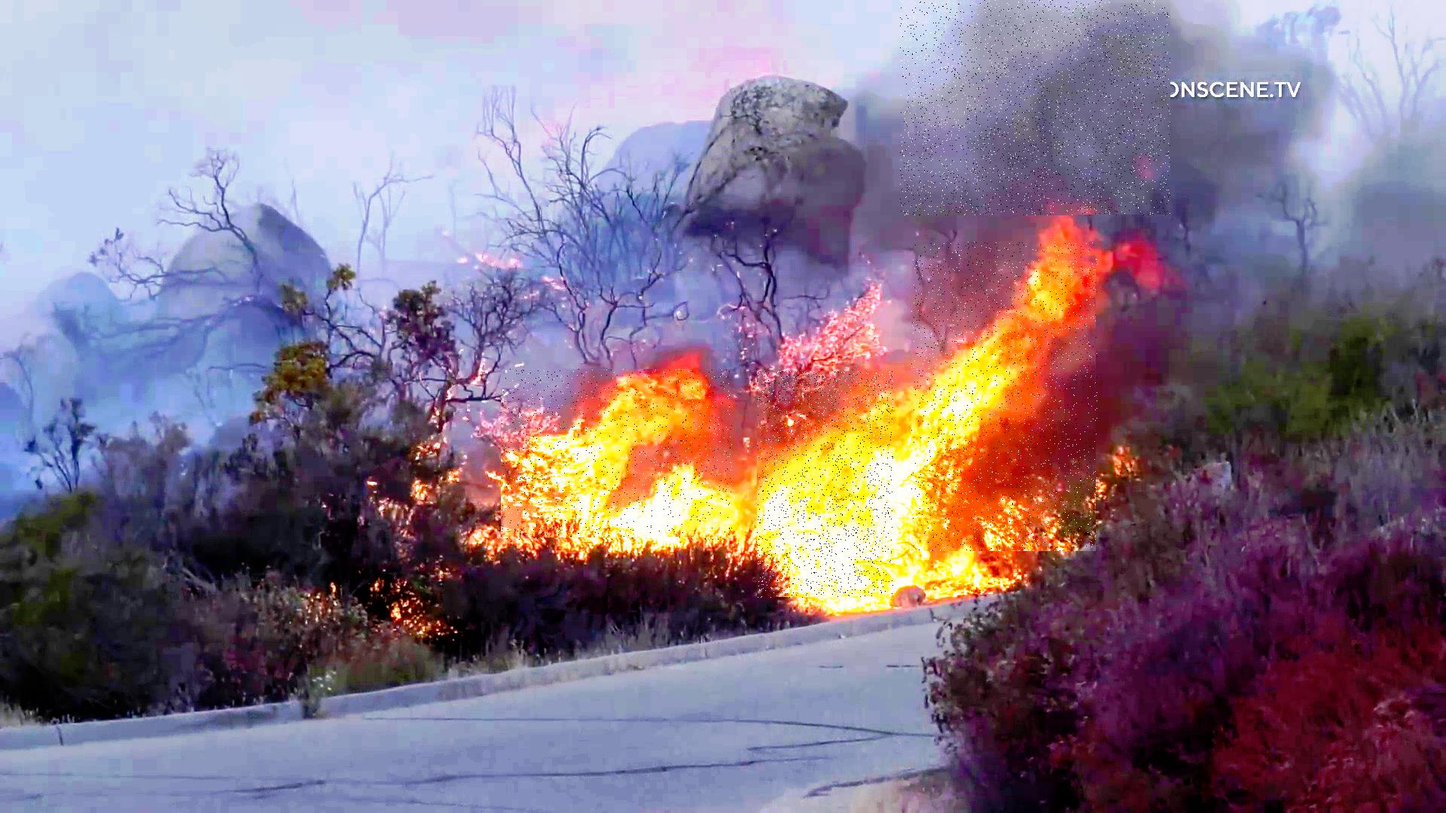fire: (912, 242, 1098, 551), (501, 370, 733, 540), (757, 371, 894, 598)
smoke: (900, 0, 1170, 215)
